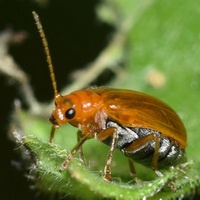insect: (32, 11, 186, 180)
